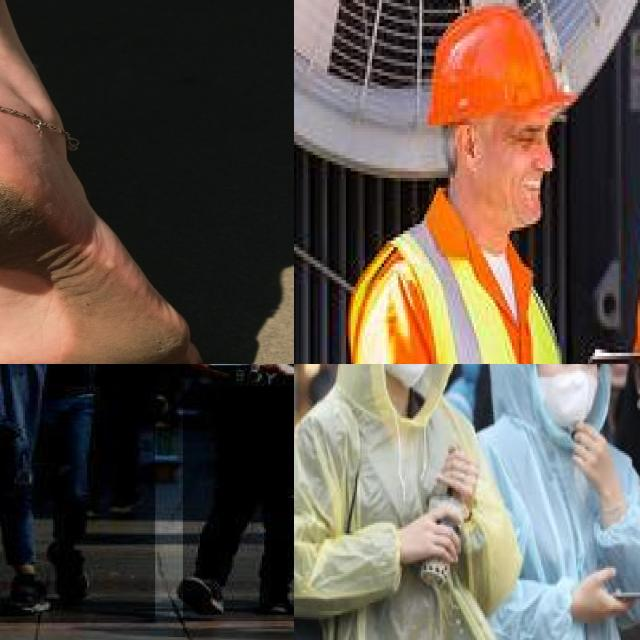Barefoots: (0, 128, 200, 364)
No_Ear-Protection: (457, 124, 484, 176)
No_Glasses: (505, 121, 549, 154)
face_mask: (536, 364, 601, 428), (381, 364, 445, 389)
face_nomask: (484, 153, 553, 223)
hand_noglove: (408, 501, 466, 569), (571, 563, 628, 620), (437, 442, 480, 501), (570, 418, 610, 476)
head_helmet: (427, 6, 577, 125)
person: (294, 364, 497, 640), (465, 364, 640, 640), (0, 364, 157, 624), (183, 364, 294, 623)
shoes: (40, 536, 102, 606), (170, 568, 232, 622), (0, 563, 59, 619), (250, 575, 294, 622)
